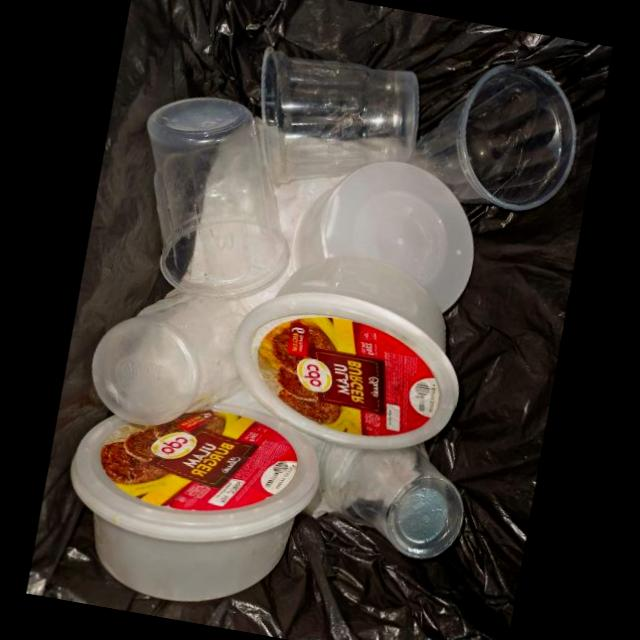hop_nhua: (69, 403, 320, 601), (233, 253, 459, 449), (146, 95, 290, 297), (290, 158, 474, 313), (409, 60, 576, 211), (91, 288, 250, 425), (260, 46, 419, 183), (319, 441, 464, 558)
